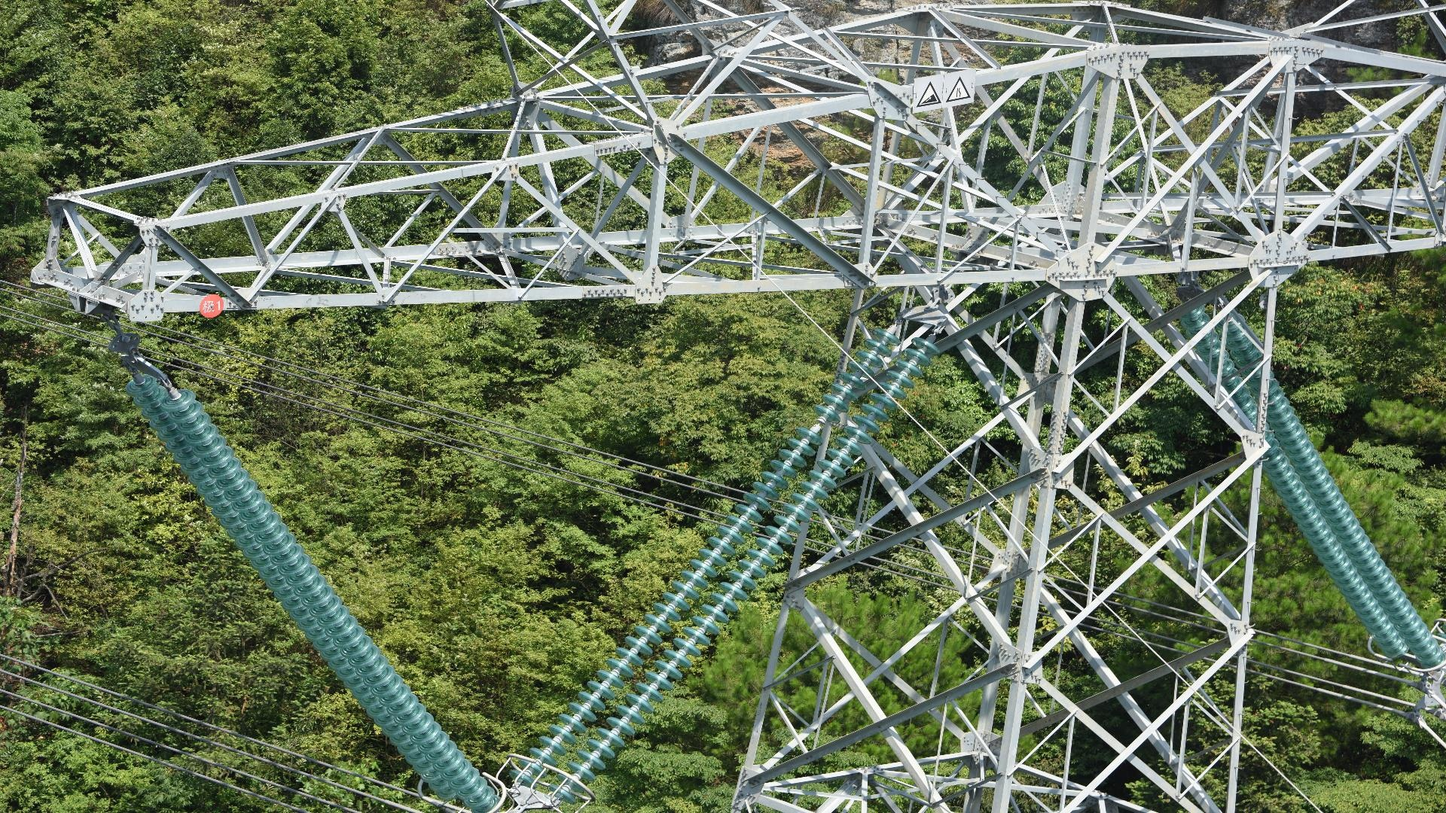insulator: (511, 322, 944, 806), (117, 363, 506, 813), (1175, 294, 1446, 676)
